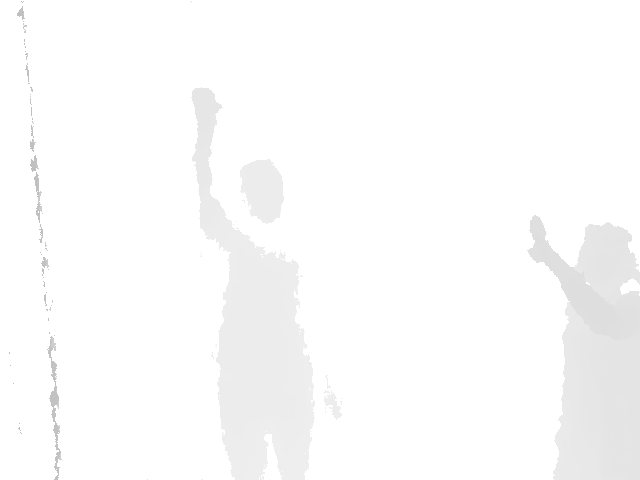hand: (190, 85, 223, 124), (527, 213, 551, 264)
head: (574, 221, 640, 292), (239, 159, 285, 225)
person: (189, 85, 318, 480), (526, 212, 640, 480)
